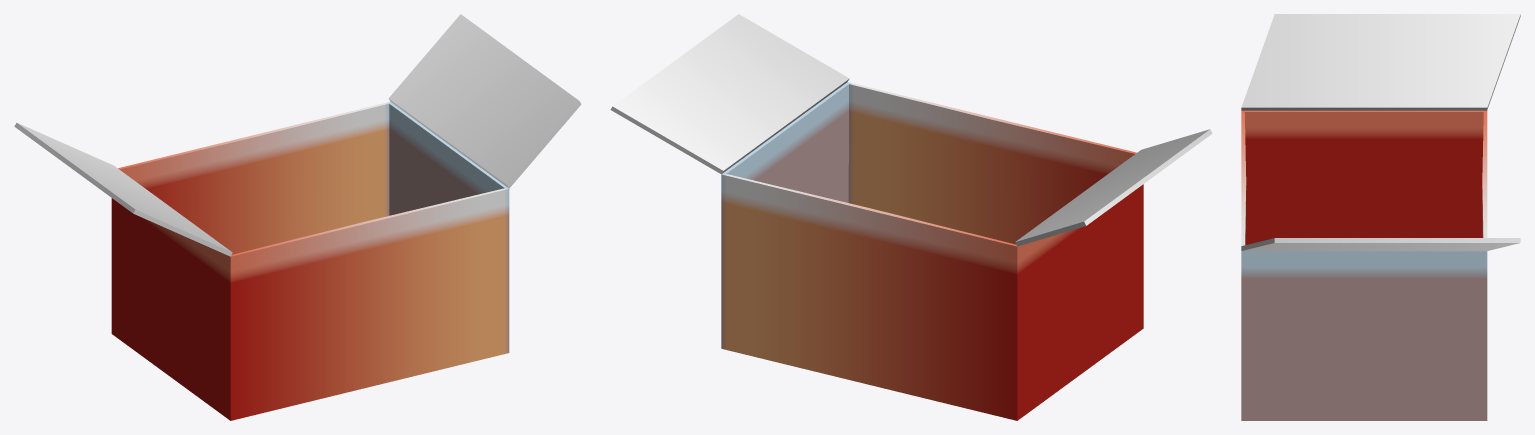
The model's file is SM_Open_Box.fbx.
The picture shows the model from 3 angles, left to right: view 1: azimuth 30°, elevation 25°; view 2: azimuth 150°, elevation 25°; view 3: azimuth 270°, elevation 25°; orthographic projection. The views are drawn at different scales.
Visible parts, largest first — view 1: Open_Box_mask; view 2: Open_Box_mask; view 3: Open_Box_mask.
Boxes of the visible parts, x1,y1,x2,y2 form: Open_Box_mask: [14, 14, 581, 420]; Open_Box_mask: [610, 14, 1212, 420]; Open_Box_mask: [1241, 14, 1520, 420].
Size of the model in its own units: 0.3757 by 0.1754 by 0.196.
